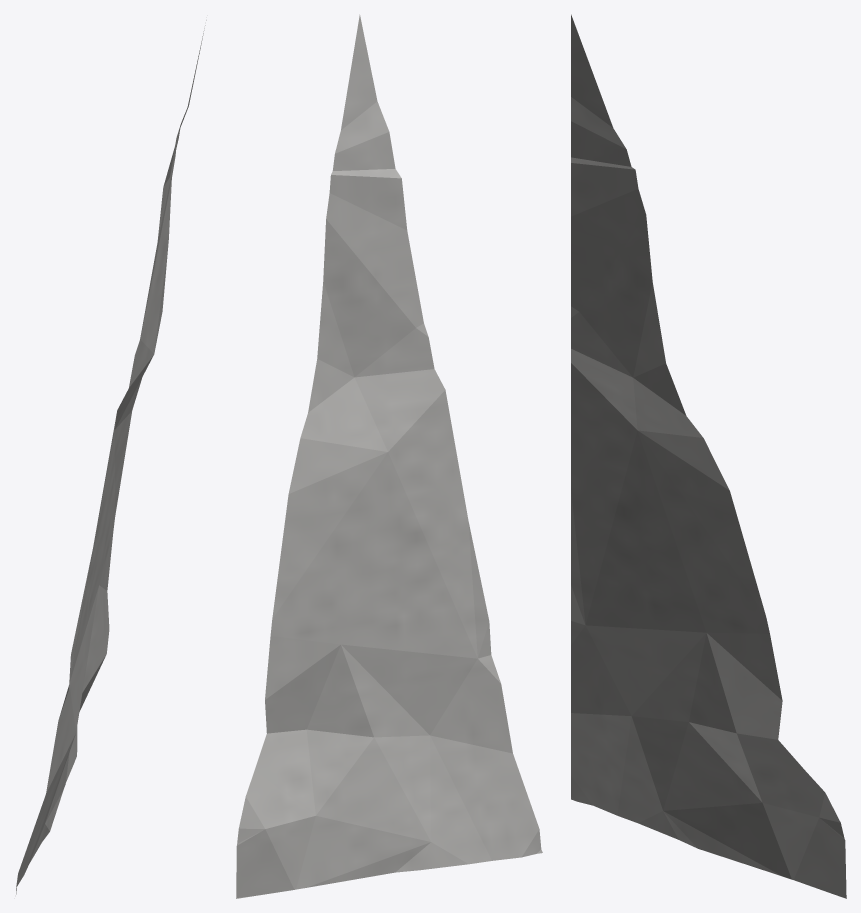
3 renders of one model, left to right at view 1: azimuth 30°, elevation 25°; view 2: azimuth 150°, elevation 25°; view 3: azimuth 270°, elevation 25°, orthographic. The views are drawn at different scales.
Size of the model in its own units: 0.0795 by 0.3296 by 0.0931.
Materials: 1 (1 with a texture image).
